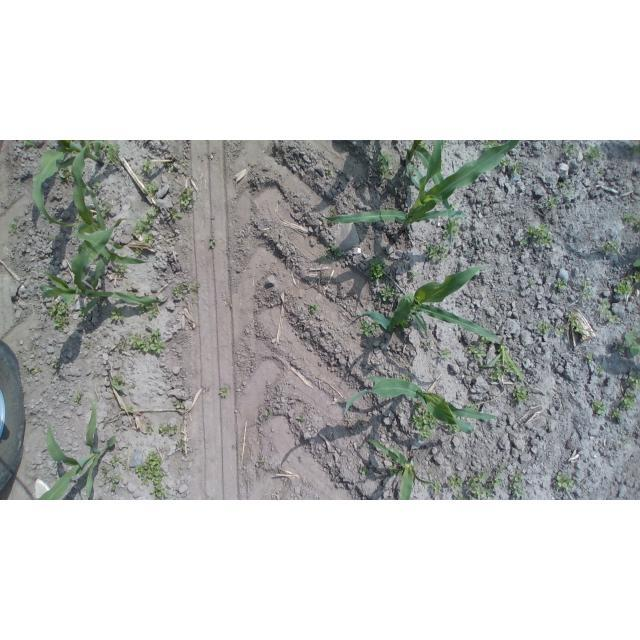Maize: (318, 142, 523, 235), (37, 218, 170, 313), (346, 264, 499, 344), (66, 182, 161, 288), (344, 375, 498, 435), (36, 392, 116, 500), (32, 140, 105, 228), (70, 141, 125, 252), (368, 438, 441, 500)
Weeds: (134, 449, 163, 497), (124, 329, 164, 356), (464, 470, 497, 500), (613, 259, 639, 295), (133, 206, 155, 245), (49, 302, 71, 334), (101, 456, 119, 494), (413, 407, 436, 435), (521, 226, 550, 247), (619, 329, 639, 359), (100, 141, 118, 168), (599, 301, 619, 324), (365, 258, 386, 279), (378, 150, 393, 179), (509, 471, 524, 500), (446, 477, 464, 500), (424, 244, 449, 259), (622, 212, 640, 232), (565, 314, 583, 334), (555, 474, 575, 492), (601, 240, 619, 259), (157, 423, 179, 438), (360, 320, 378, 338), (179, 187, 193, 209), (620, 391, 637, 409), (513, 385, 531, 402), (324, 243, 341, 261), (560, 144, 579, 158), (590, 398, 604, 416), (467, 344, 485, 358), (445, 221, 459, 238), (430, 481, 442, 500), (379, 285, 395, 299), (444, 423, 462, 435), (537, 322, 552, 336), (146, 306, 159, 322), (629, 370, 640, 388), (547, 196, 561, 210), (586, 146, 601, 159), (110, 376, 122, 392), (111, 312, 125, 325), (583, 280, 592, 300), (513, 159, 523, 175), (169, 210, 183, 221), (173, 286, 184, 299), (115, 264, 128, 275), (387, 466, 398, 479), (142, 161, 152, 175), (486, 141, 501, 150), (554, 279, 566, 290), (464, 402, 477, 412), (630, 142, 640, 154), (172, 402, 185, 411), (208, 238, 216, 252), (24, 142, 38, 150), (611, 410, 622, 419), (501, 158, 512, 167), (439, 350, 450, 359), (310, 303, 319, 314), (219, 387, 227, 398), (74, 394, 82, 405), (407, 270, 418, 278), (187, 285, 199, 292), (555, 183, 567, 190), (358, 467, 367, 476), (594, 366, 602, 376), (134, 249, 141, 259), (586, 355, 594, 362), (559, 325, 565, 333)
